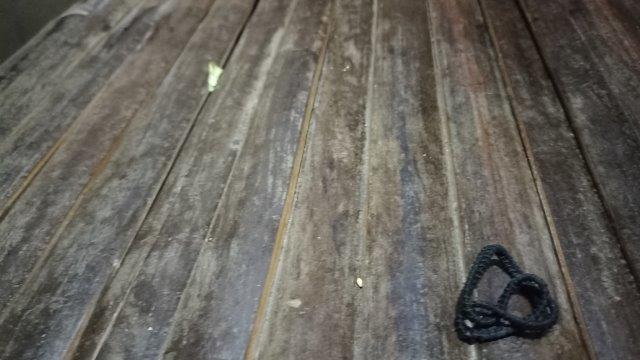karet: (456, 244, 559, 343)
